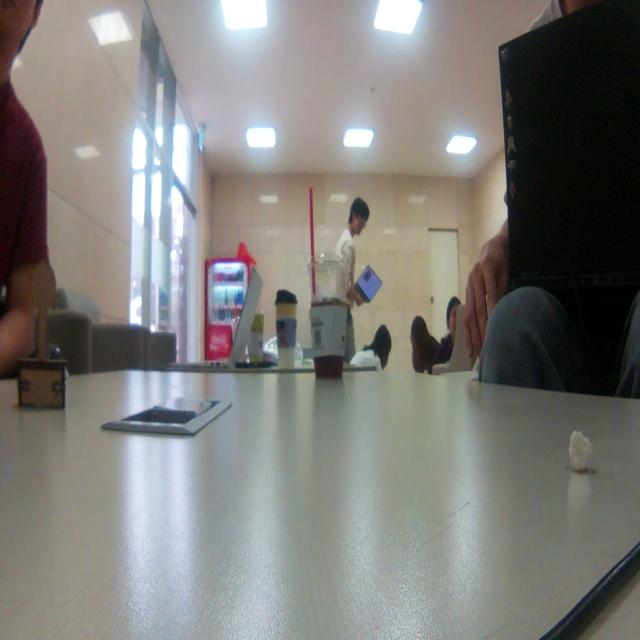target: (18, 259, 66, 411)
